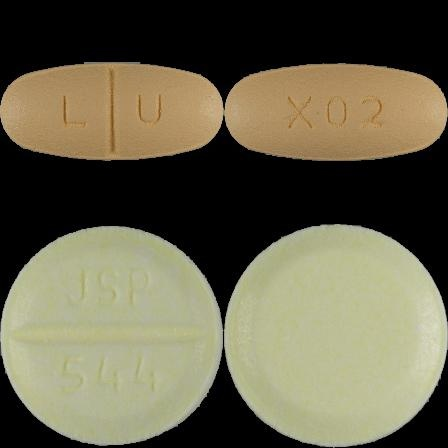64725-1130: (0, 0, 224, 224)
